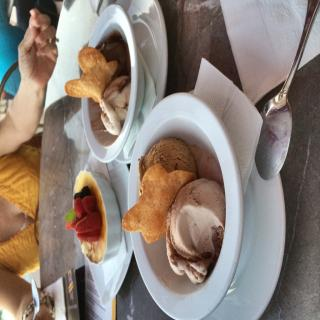Ice cream: (65, 27, 131, 138), (164, 192, 223, 284), (63, 170, 107, 266)
